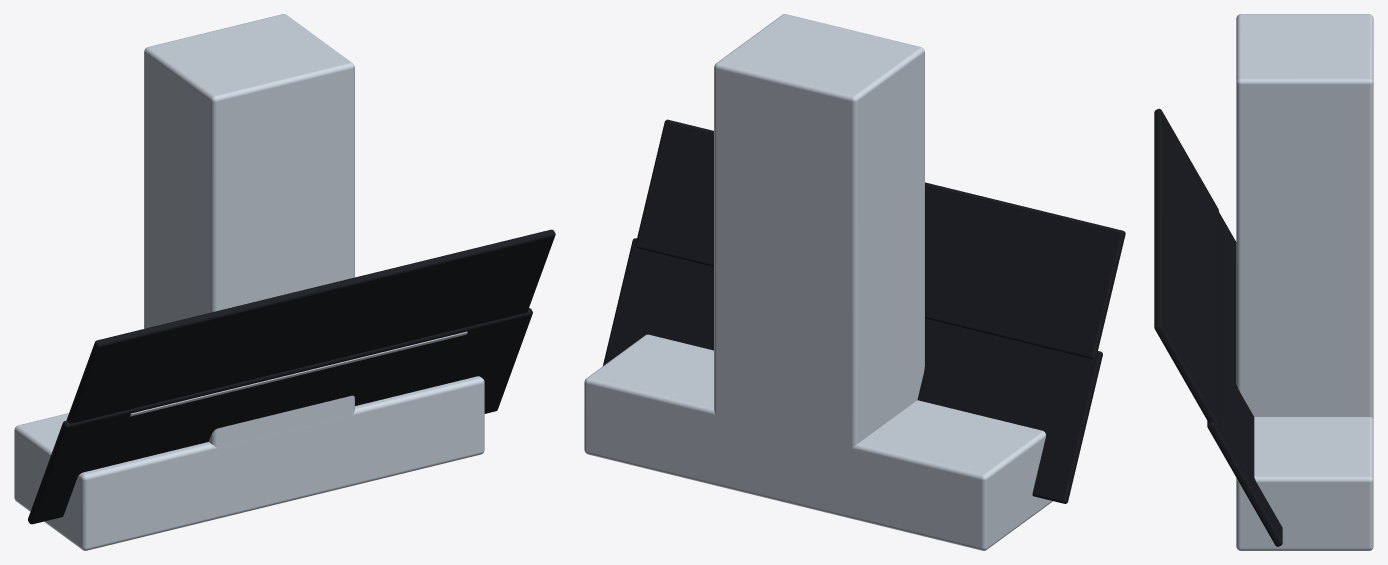
Rendered from obj_hood_wall_900.glb.
3 renders of one model, left to right at view 1: azimuth 30°, elevation 25°; view 2: azimuth 150°, elevation 25°; view 3: azimuth 270°, elevation 25°, orthographic. The views are drawn at different scales.
Visible parts, largest first — view 1: obj_hood_wall_900; view 2: obj_hood_wall_900; view 3: obj_hood_wall_900.
Part boxes in pixels (<box>): obj_hood_wall_900: <box>14,14,555,550</box>; obj_hood_wall_900: <box>584,14,1125,550</box>; obj_hood_wall_900: <box>1154,14,1373,550</box>.
Size of the model in its own units: 0.898 by 0.778 by 0.3753.
